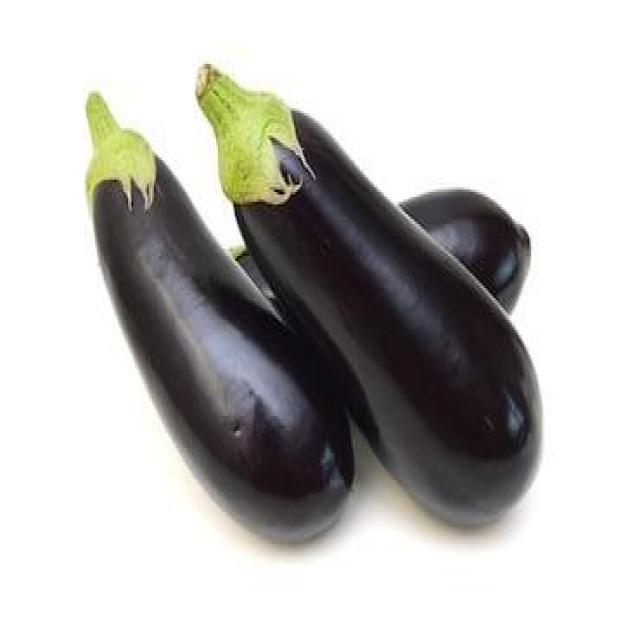eggplant: (348, 216, 547, 530), (220, 75, 438, 294), (82, 126, 211, 470)
